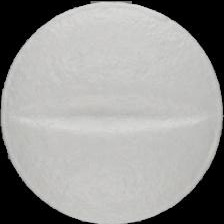49884-405: (0, 0, 224, 224)
